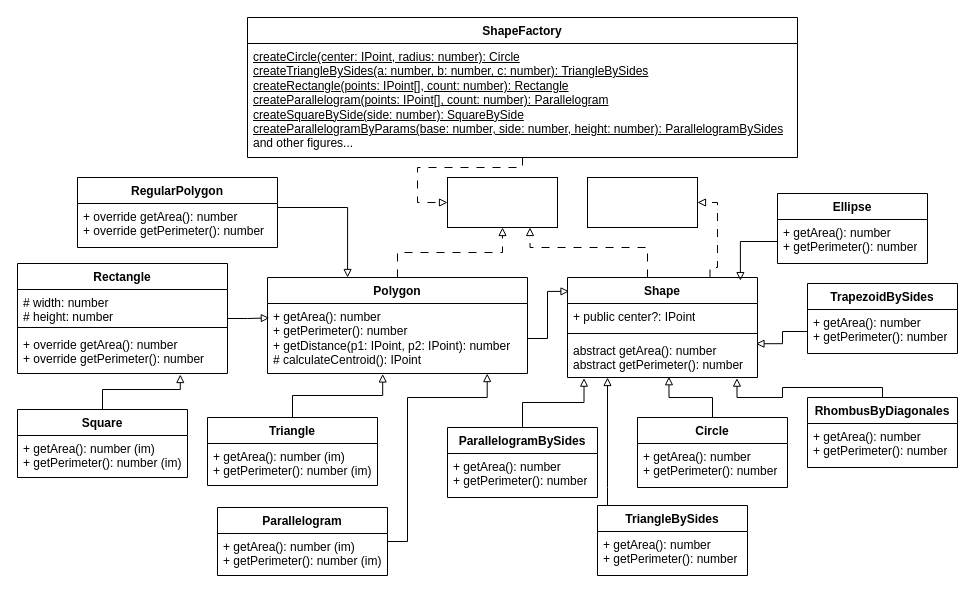
This 975x596 diagram has some shape labels left out. The shapes that lost their labels are listed below. From the top down, each one's centre as x and y in pixels, then its label:
point 502,202: «interface» IPoint
point 642,202: «interface» IShape
